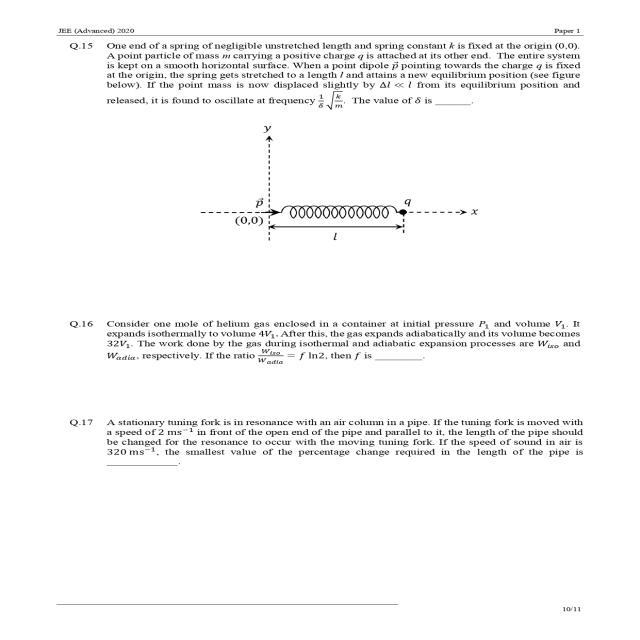Question_Answer_Block: (47, 39, 616, 248), (47, 303, 616, 393), (47, 410, 616, 500)
Question_Block: (47, 39, 616, 248), (47, 303, 616, 393), (47, 410, 616, 500)
Question_Paper_Area: (47, 40, 616, 579)
